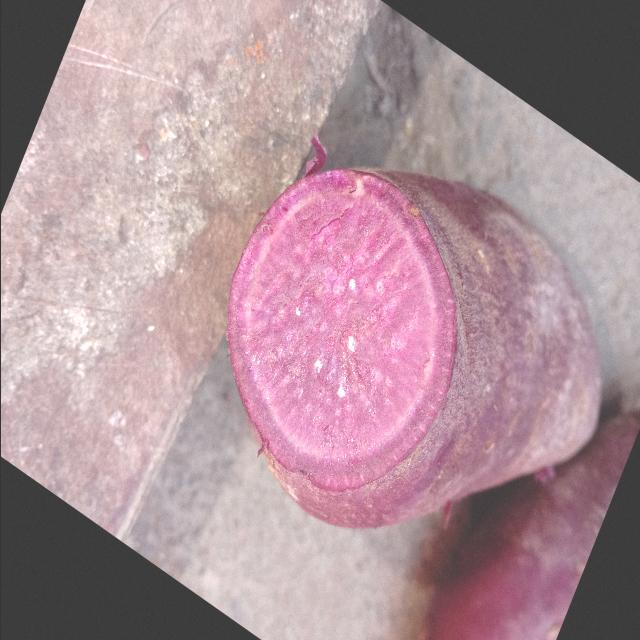Healthy Sweet Potato: (228, 170, 455, 490)
